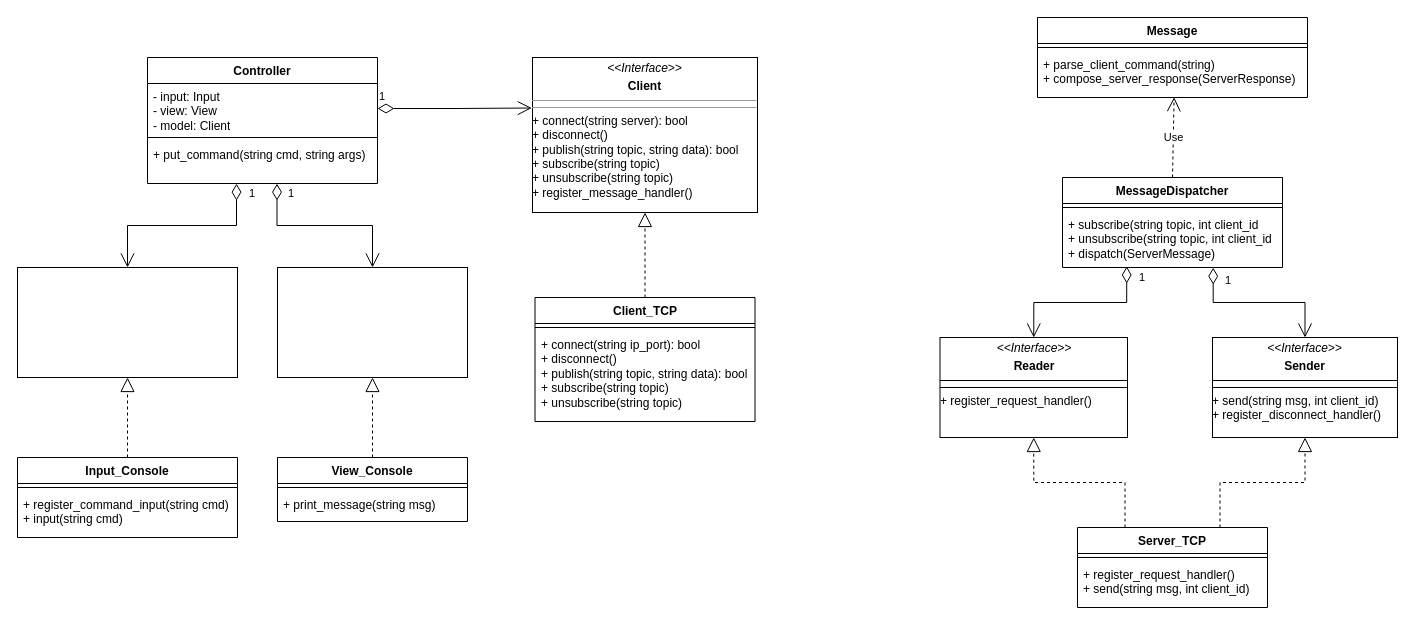
The diagram is 1415 pixels wide and 628 high, and some of its shapes have lost their labels. The centre of each missing label's shape, as x and y in pixels:
"<<Interface>> Input + register_command_input(string cmd) + input(string cmd)" belongs at (127,322).
"<<Interface>> View + print_message(string msg)" belongs at (372,322).
